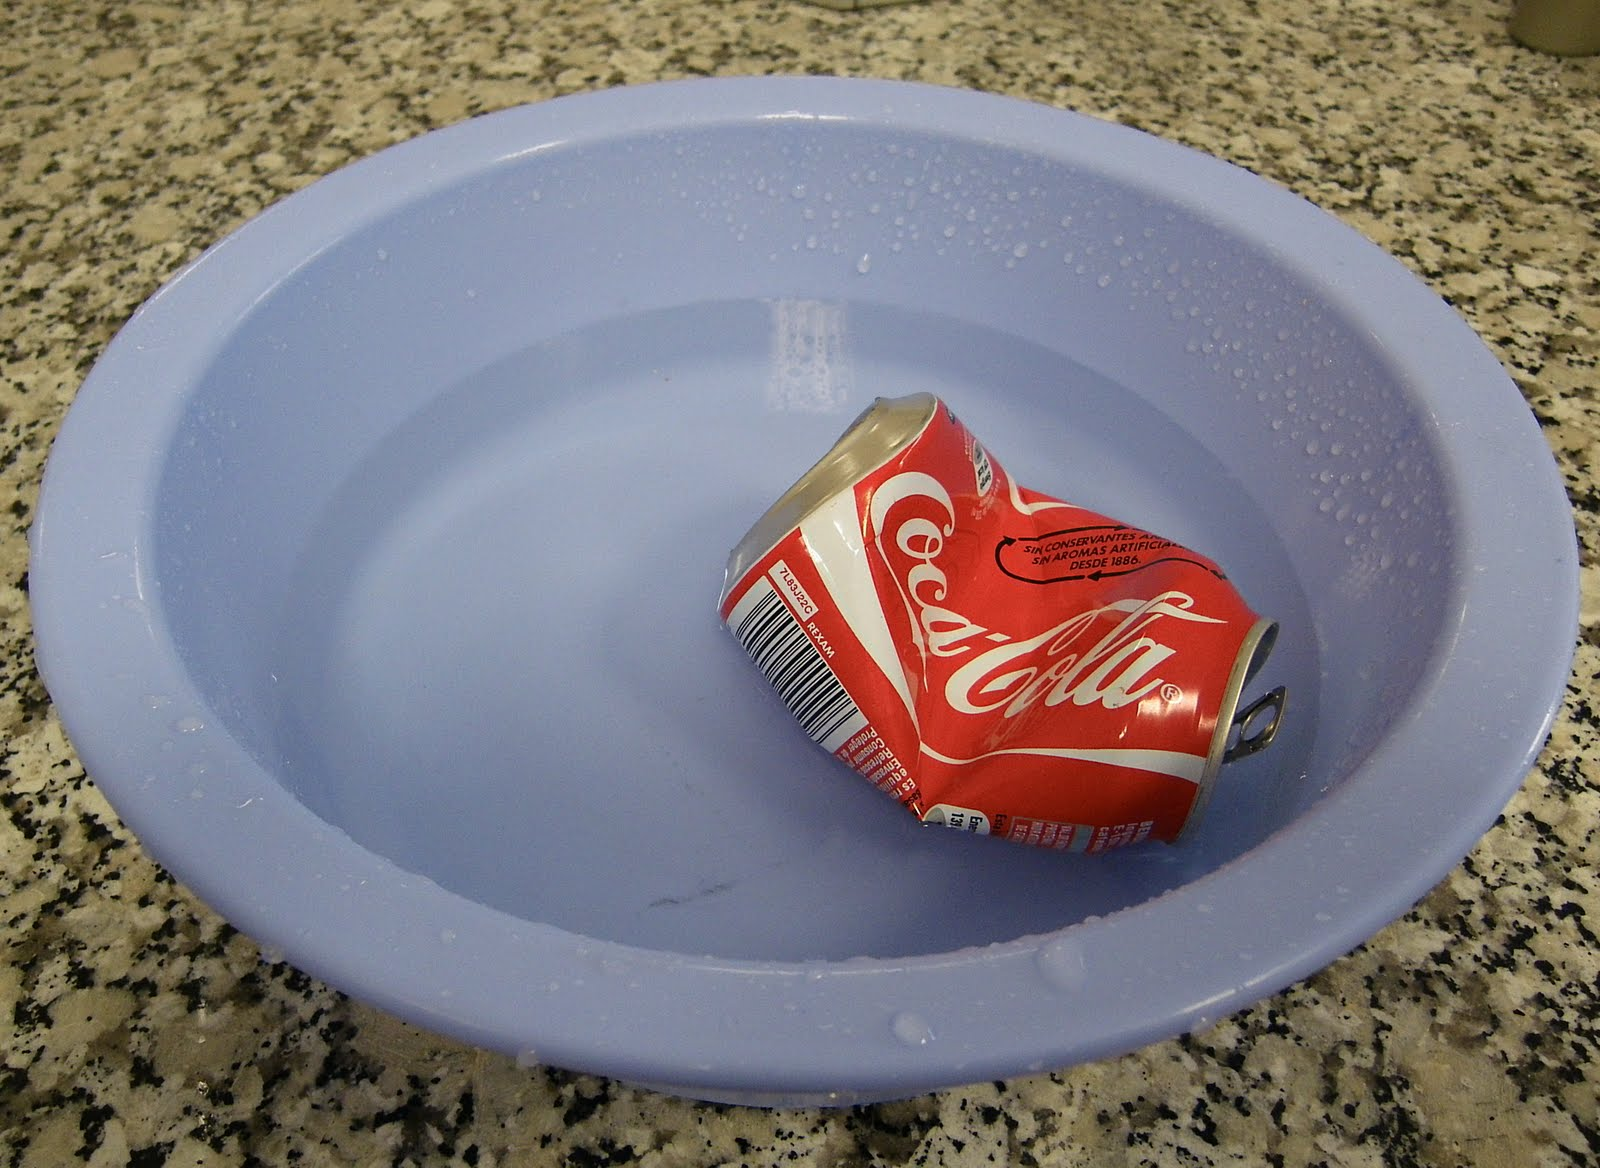can: (709, 400, 1349, 919)
